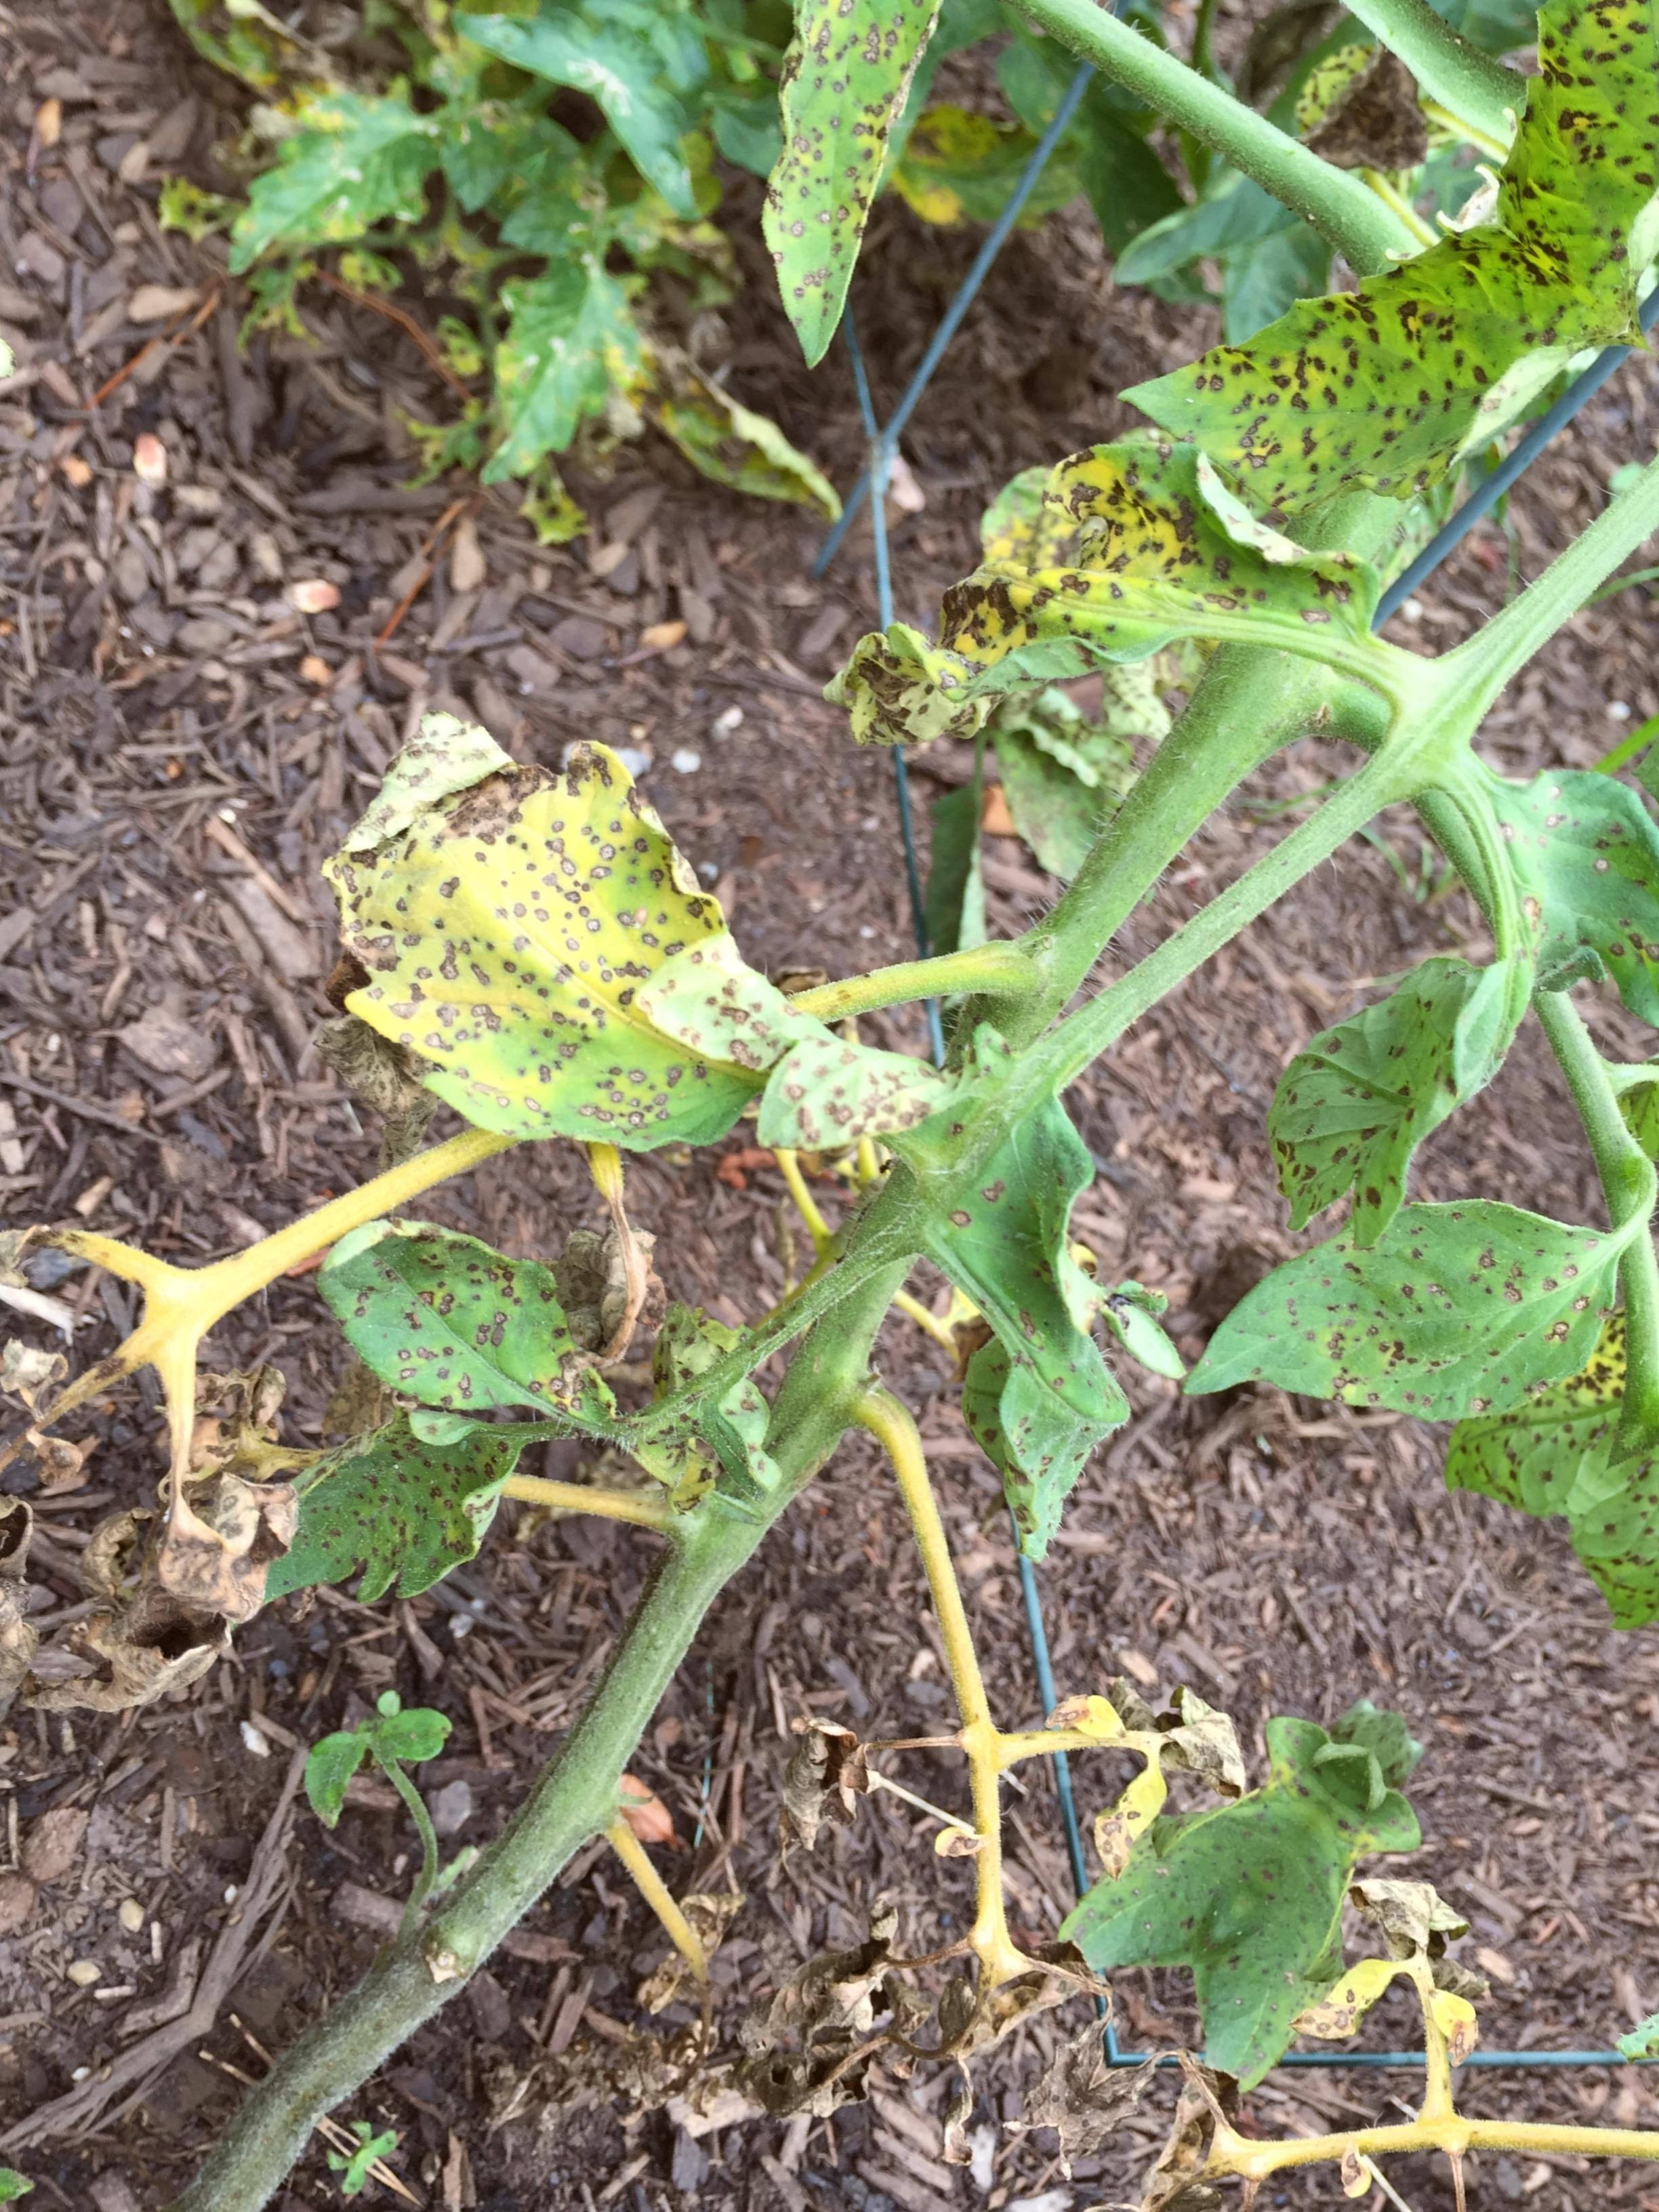Tomato Septoria leaf spot: (150, 583, 1033, 1413), (793, 348, 1408, 968), (1098, 110, 1659, 678), (1134, 1057, 1659, 1611), (779, 1059, 1281, 1573), (565, 0, 1131, 371), (230, 1111, 664, 1522), (204, 1334, 613, 1747), (1194, 869, 1591, 1284)
